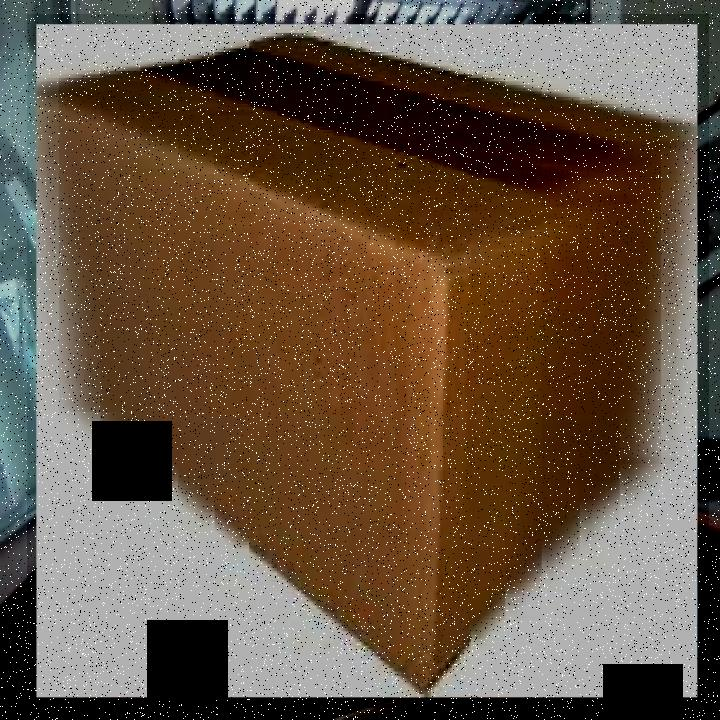box: (27, 14, 709, 708)
